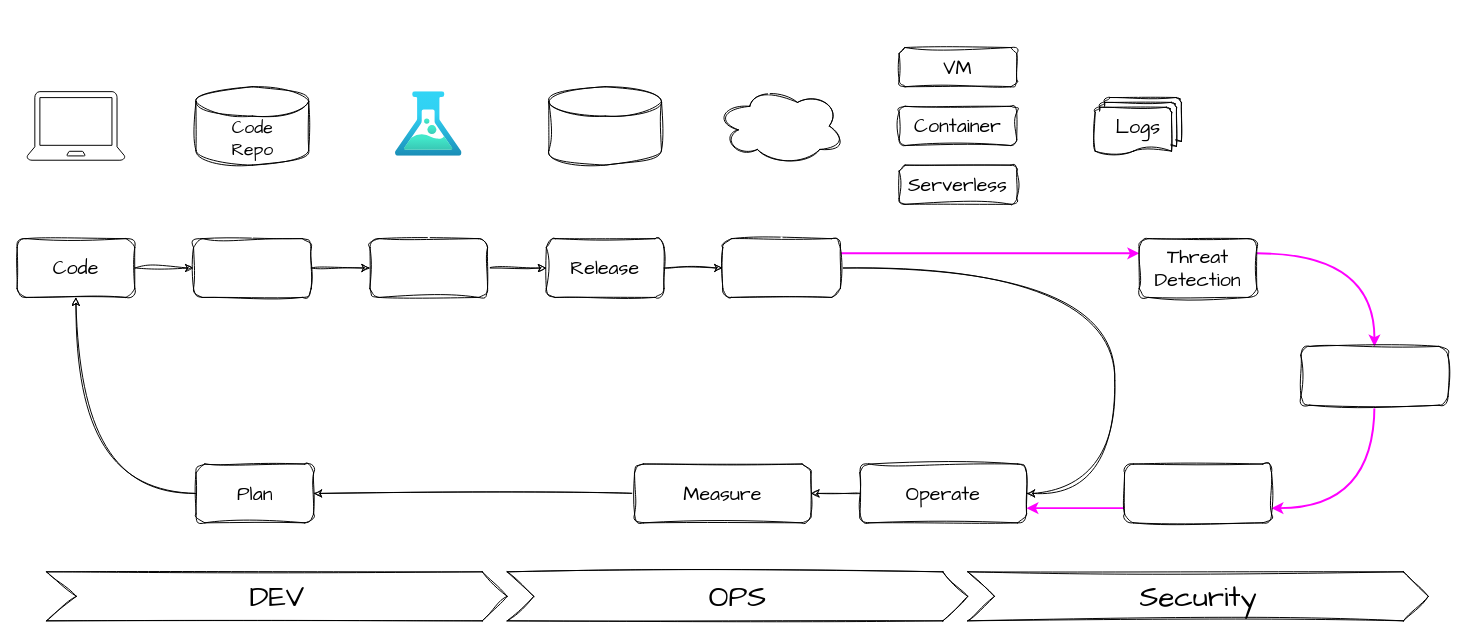
Some shapes in this 1465 by 638 pixel diagram are drawn without their labels. Here are the shapes that lost their labels. From the top down, the box of each, then its label:
(548, 86, 662, 165): Image Registry
(717, 86, 845, 165): Public Cloud
(193, 238, 311, 297): Build
(369, 238, 488, 297): Test
(722, 238, 840, 297): Deploy
(1300, 345, 1448, 405): Threat Investigation
(1124, 463, 1272, 523): Threat Response
